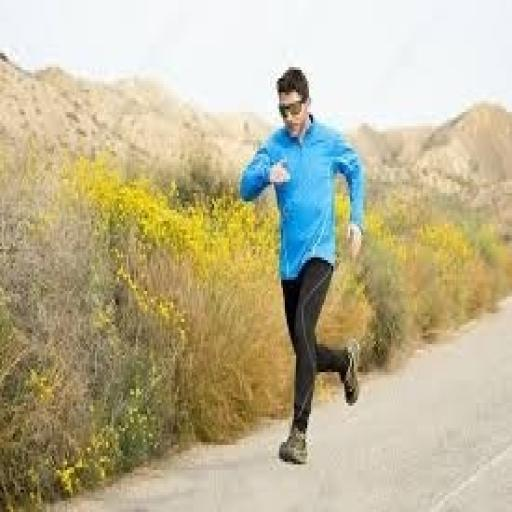running: (236, 64, 368, 468)
